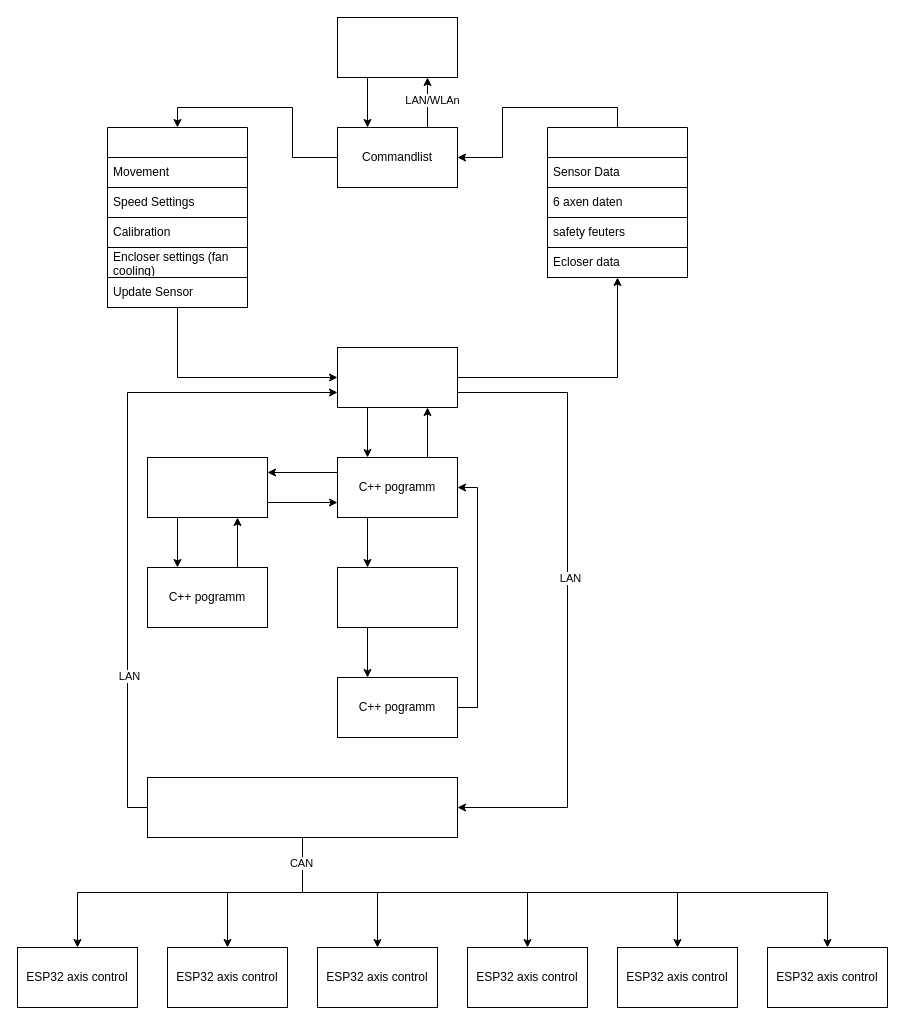
Image size: 905x1025. Some labels were removed from this diagram. The box of each missing label's shape, as (x1, y1, x2, y2) in pixels:
Command List - in: (546, 126, 688, 278)
Command List - out: (106, 126, 248, 308)
Flutter Flow tablet: (336, 16, 458, 78)
Main controler STM: (146, 776, 458, 838)
Main pc: (336, 346, 458, 408)
Python: (336, 566, 458, 628)
STM-Controler: (146, 456, 268, 518)
